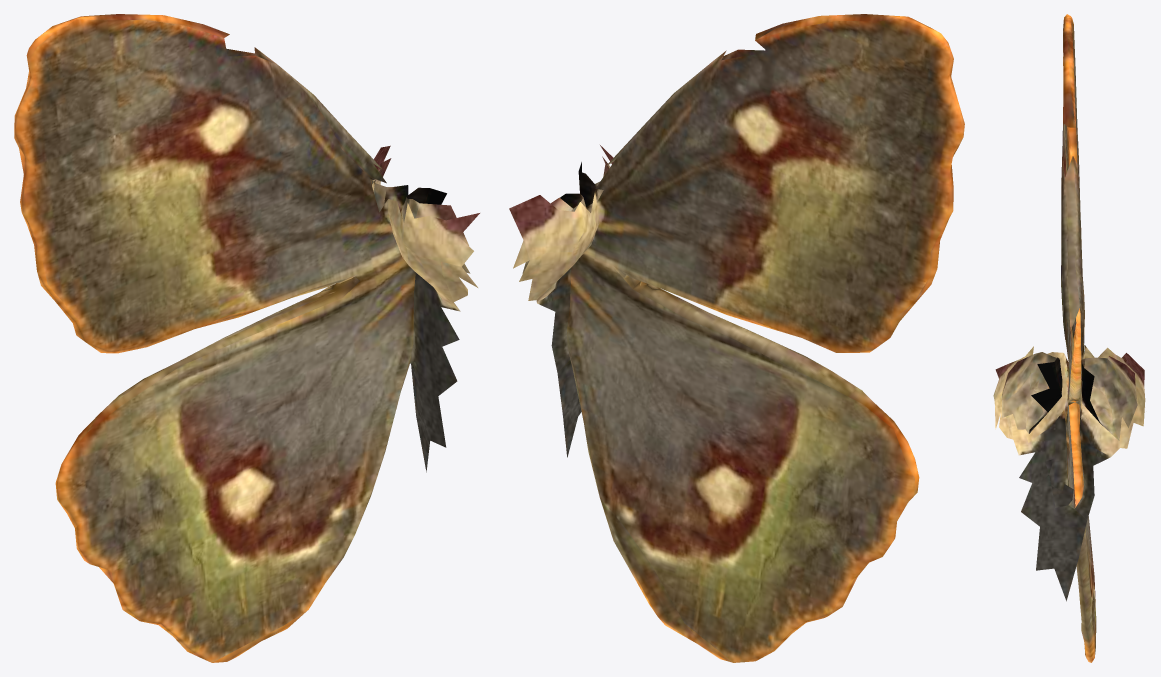
Rendered from embermoth-left.glb.
The picture shows the model from 3 angles, left to right: view 1: azimuth 30°, elevation 25°; view 2: azimuth 150°, elevation 25°; view 3: azimuth 270°, elevation 25°; orthographic projection. The views are drawn at different scales.
Parts seen in each view (by area): view 1: Mesh_0.001; view 2: Mesh_0.001; view 3: Mesh_0.001.
Boxes of the visible parts, left/top/right/bottom form: Mesh_0.001: left=14, top=14, right=479, bottom=662; Mesh_0.001: left=509, top=14, right=964, bottom=662; Mesh_0.001: left=993, top=14, right=1145, bottom=662.
Bounding box in the file's own units: 0.6576 × 1.03 × 0.2529.
1 material, 1 textured.
